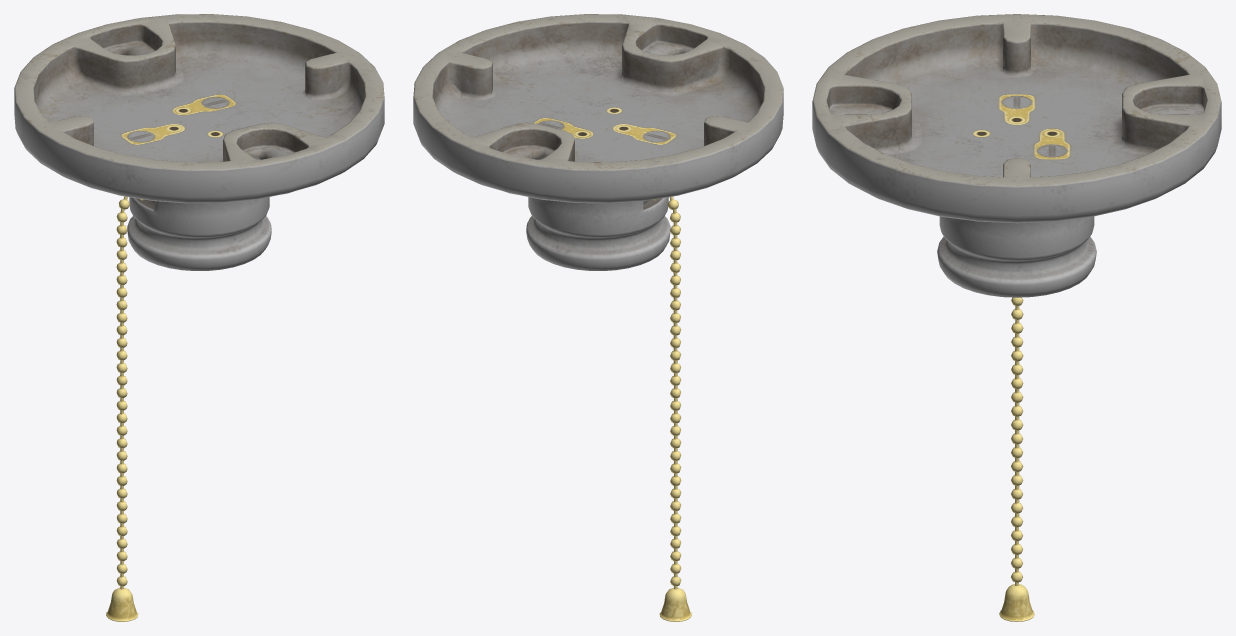
3 renders of one model, left to right at view 1: azimuth 30°, elevation 25°; view 2: azimuth 150°, elevation 25°; view 3: azimuth 270°, elevation 25°, orthographic. The views are drawn at different scales.
Visible parts, largest first — view 1: pull_chain_light_socket, pull_chain_light_socket_chain; view 2: pull_chain_light_socket, pull_chain_light_socket_chain; view 3: pull_chain_light_socket, pull_chain_light_socket_chain.
Part boxes in pixels (x1,y1,x2,y2): pull_chain_light_socket: (14,14,384,270); pull_chain_light_socket_chain: (106,196,138,621); pull_chain_light_socket: (413,14,783,270); pull_chain_light_socket_chain: (659,196,691,621); pull_chain_light_socket: (812,14,1221,297); pull_chain_light_socket_chain: (999,297,1034,621).
Bounding box in the file's own units: 0.1103 × 0.1654 × 0.1103.
Materials: 1 (1 with a texture image).
